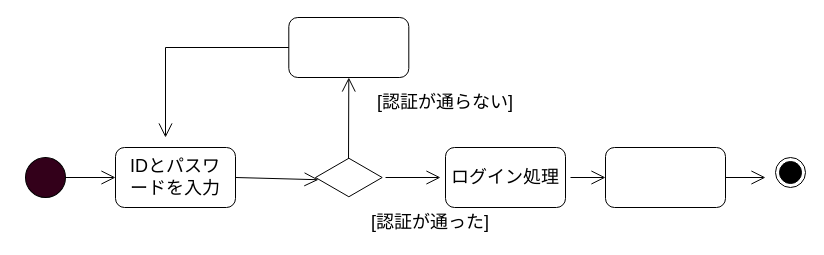
Some shapes in this 824 by 255 pixel diagram are drawn without their labels. Here are the shapes that lost their labels. From the top down, the centre of each, then its label:
At (348,47): "ログインのやり直し".
At (665,177): "管理画面 の表示".
